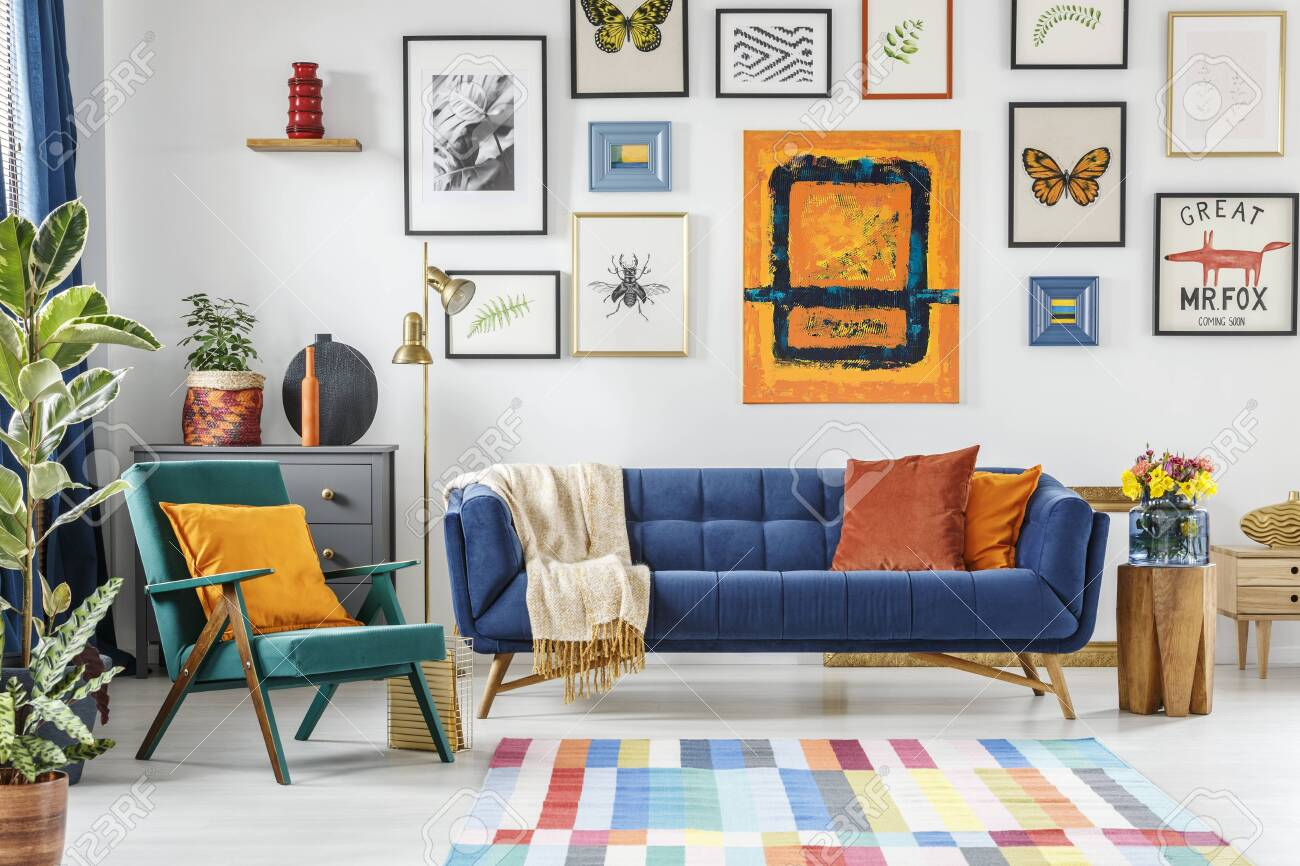coklat: (1118, 568, 1215, 716)
hijau: (123, 461, 444, 666)
merah: (288, 61, 324, 137)
orange: (171, 504, 347, 630), (843, 457, 959, 569), (1, 780, 66, 866), (966, 474, 1018, 563), (300, 346, 322, 447)
putih: (453, 462, 1098, 645)
